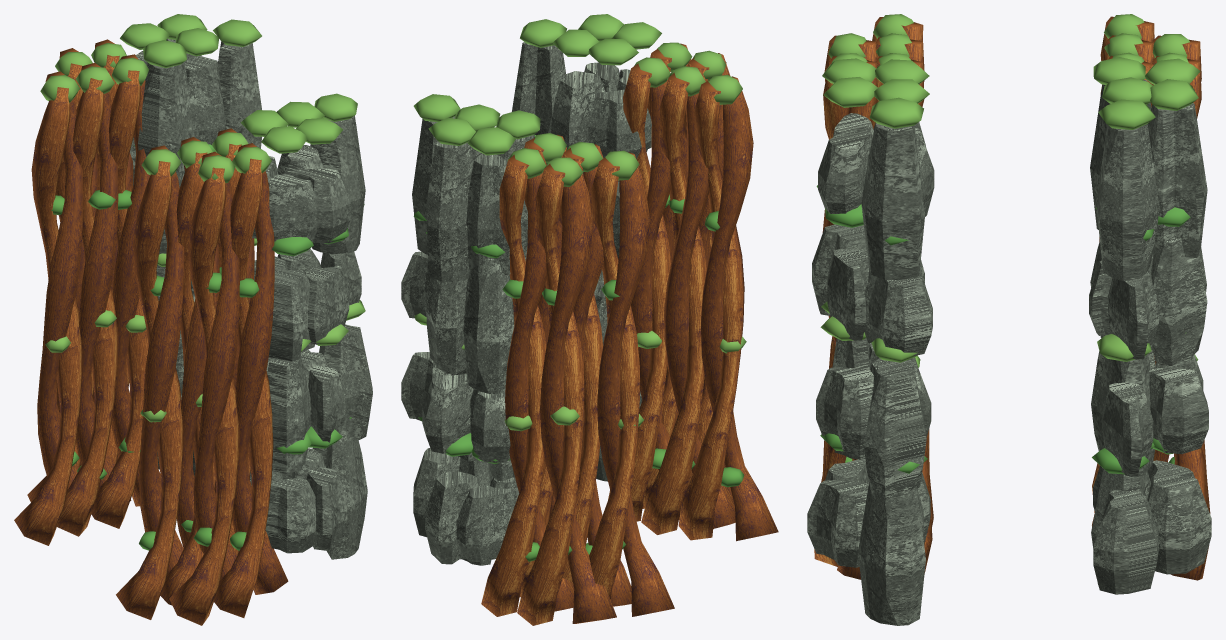
The model's file is rim_cage.glb.
The picture shows the model from 3 angles, left to right: view 1: azimuth 30°, elevation 25°; view 2: azimuth 150°, elevation 25°; view 3: azimuth 270°, elevation 25°; orthographic projection. The views are drawn at different scales.
Visible parts, largest first — view 1: rim_root_x1_z6, rim_root_x2_z7, rim_root_x1_z1, rim_root_x3_z7, rim_root_x2_z1, rim_stone_x4_z7, rim_root_x3_z1, rim_stone_x6_z6, rim_stone_x5_z7, rim_root_x2_z6, rim_stone_x4_z1, rim_stone_x6_z1 (+8 smaller); view 2: rim_root_x2_z0, rim_root_x1_z6, rim_root_x1_z1, rim_stone_x5_z0, rim_stone_x4_z0, rim_root_x2_z6, rim_root_x3_z0, rim_root_x3_z6, rim_stone_x6_z1, rim_root_x2_z1, rim_stone_x4_z6, rim_stone_x6_z6 (+8 smaller); view 3: rim_stone_x6_z6, rim_stone_x6_z1, rim_stone_x5_z0, rim_stone_x5_z7, rim_stone_x4_z7, rim_stone_x5_z1, rim_stone_x4_z1, rim_stone_x5_z6, rim_root_x3_z7, rim_stone_x4_z0, rim_root_x3_z0, rim_stone_x4_z6 (+7 smaller).
Part boxes in pixels (left/top/right/bottom): rim_root_x1_z6: left=116, top=145, right=184, bottom=619; rim_root_x2_z7: left=169, top=151, right=239, bottom=625; rim_root_x1_z1: left=14, top=71, right=83, bottom=545; rim_root_x3_z7: left=214, top=143, right=288, bottom=617; rim_root_x2_z1: left=56, top=63, right=131, bottom=536; rim_stone_x4_z7: left=261, top=126, right=317, bottom=553; rim_root_x3_z1: left=91, top=54, right=161, bottom=528; rim_stone_x6_z6: left=310, top=93, right=372, bottom=559; rim_stone_x5_z7: left=292, top=118, right=350, bottom=549; rim_root_x2_z6: left=160, top=137, right=219, bottom=605; rim_stone_x4_z1: left=138, top=40, right=194, bottom=469; rim_stone_x6_z1: left=213, top=19, right=261, bottom=245; rim_root_x2_z0: left=517, top=157, right=616, bottom=625; rim_root_x1_z6: left=678, top=75, right=778, bottom=541; rim_root_x1_z1: left=589, top=150, right=674, bottom=616; rim_stone_x5_z0: left=422, top=118, right=479, bottom=564; rim_stone_x4_z0: left=456, top=127, right=515, bottom=561; rim_root_x2_z6: left=641, top=66, right=735, bottom=534; rim_root_x3_z0: left=481, top=148, right=574, bottom=616; rim_root_x3_z6: left=608, top=57, right=680, bottom=521; rim_stone_x6_z1: left=401, top=94, right=460, bottom=537; rim_root_x2_z1: left=558, top=141, right=631, bottom=606; rim_stone_x4_z6: left=579, top=38, right=651, bottom=481; rim_stone_x6_z6: left=512, top=19, right=566, bottom=164; rim_stone_x6_z6: left=858, top=97, right=932, bottom=625; rim_stone_x6_z1: left=1092, top=99, right=1159, bottom=594; rim_stone_x5_z0: left=1147, top=79, right=1211, bottom=574; rim_stone_x5_z7: left=807, top=77, right=877, bottom=567; rim_stone_x4_z7: left=812, top=58, right=876, bottom=483; rim_stone_x5_z1: left=1089, top=77, right=1154, bottom=584; rim_stone_x4_z1: left=1090, top=57, right=1155, bottom=511; rim_stone_x5_z6: left=868, top=79, right=934, bottom=539; rim_root_x3_z7: left=814, top=53, right=877, bottom=579; rim_stone_x4_z0: left=1145, top=58, right=1206, bottom=482; rim_root_x3_z0: left=1152, top=52, right=1209, bottom=580; rim_stone_x4_z6: left=869, top=59, right=930, bottom=544.
Bounding box in the file's own units: 7.21 × 12.64 × 8.76.
4 materials, 2 textured.
